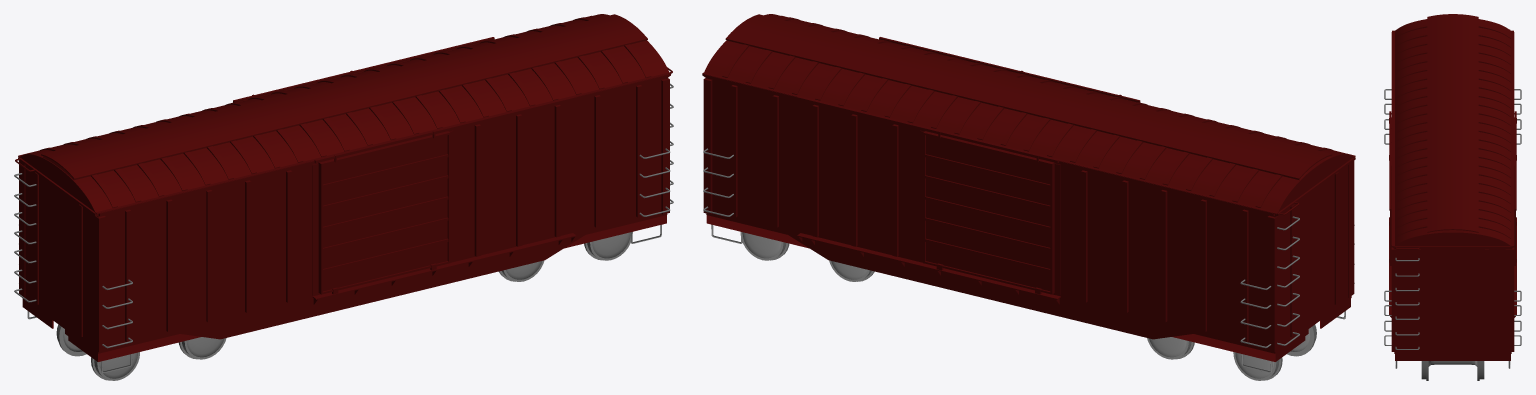
File: Trailer (Red).fbx
3 views of the same model, side by side, from view 1: azimuth 30°, elevation 25°; view 2: azimuth 150°, elevation 25°; view 3: azimuth 270°, elevation 25° (orthographic). The views are drawn at different scales.
Visible parts, largest first — view 1: Trailer; view 2: Trailer; view 3: Trailer.
Boxes of the visible parts, box(x1,y1,x2,y2) form: Trailer: box(14, 14, 673, 380); Trailer: box(702, 14, 1355, 380); Trailer: box(1384, 14, 1521, 380).
Bounding box in the file's own units: 12402 × 4336 × 3264.
